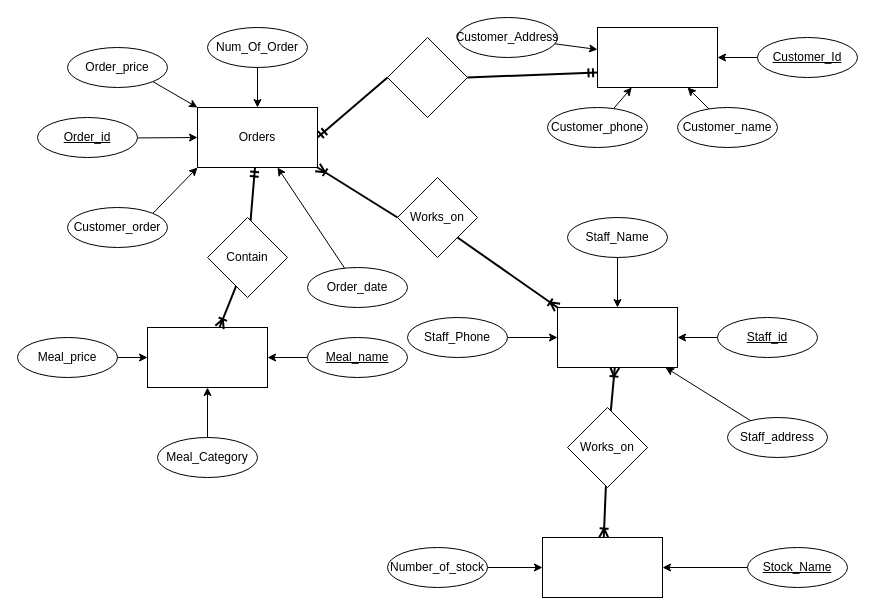
The diagram is 875 pixels wide and 615 high, and some of its shapes have lost their labels. Each missing label, with the centre of its shape:
Customers: point 657,57
Menu: point 207,357
Request: point 427,77
Staff: point 617,337
Stock: point 602,567
